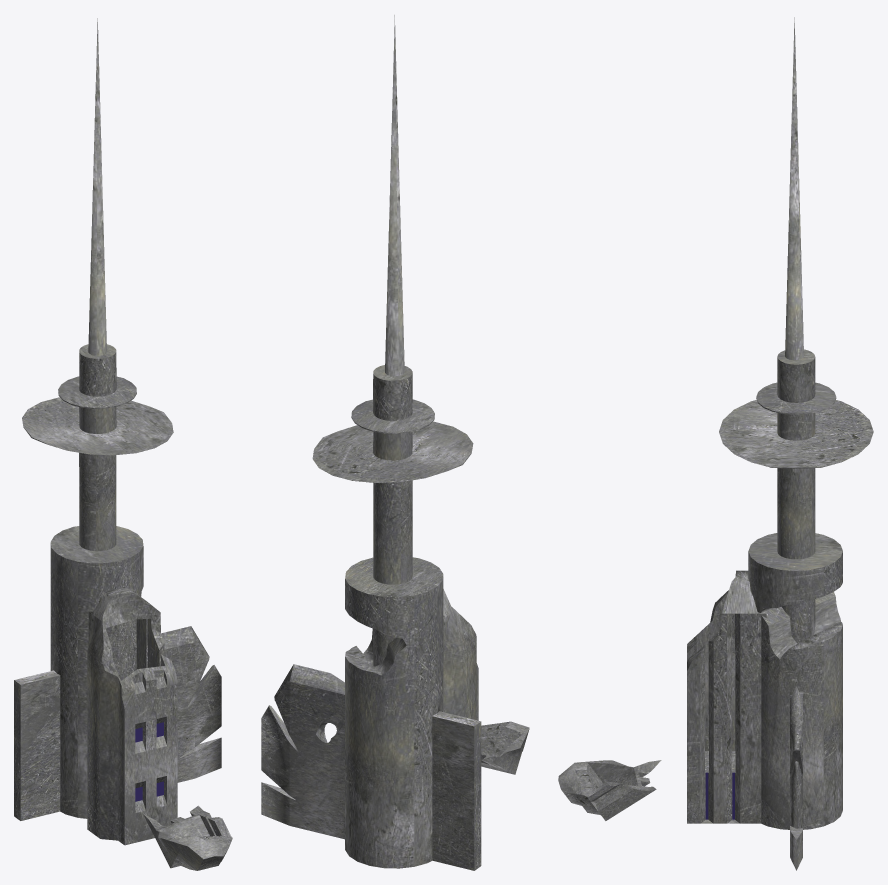
File: Tower-Environment.fbx
3 views of the same model, side by side, from view 1: azimuth 30°, elevation 25°; view 2: azimuth 150°, elevation 25°; view 3: azimuth 270°, elevation 25° (orthographic). The views are drawn at different scales.
Visible parts, largest first — view 1: polySurface8, polySurface9, pCylinder2, polySurface3, polySurface7, pCone1; view 2: polySurface9, polySurface3, pCylinder2, pCone1, polySurface8, polySurface7; view 3: polySurface9, polySurface8, pCylinder2, polySurface7, pCone1, polySurface3.
Boxes of the visible parts, <box> form: polySurface8: <box>87,587,177,845</box>; polySurface9: <box>50,526,143,818</box>; pCylinder2: <box>22,344,173,551</box>; polySurface3: <box>14,626,221,820</box>; polySurface7: <box>143,805,232,870</box>; pCone1: <box>88,18,106,355</box>; polySurface9: <box>345,557,443,868</box>; polySurface3: <box>261,664,481,870</box>; pCylinder2: <box>312,365,473,666</box>; pCone1: <box>385,15,404,376</box>; polySurface8: <box>443,589,478,720</box>; polySurface7: <box>481,721,529,774</box>; polySurface9: <box>748,533,842,829</box>; polySurface8: <box>687,570,766,823</box>; pCylinder2: <box>719,349,873,643</box>; polySurface7: <box>558,760,661,820</box>; pCone1: <box>785,17,803,360</box>; polySurface3: <box>790,686,802,870</box>.
Bounding box in the file's own units: 26.46 × 97.36 × 34.93.
Materials: 2 (1 with a texture image).
